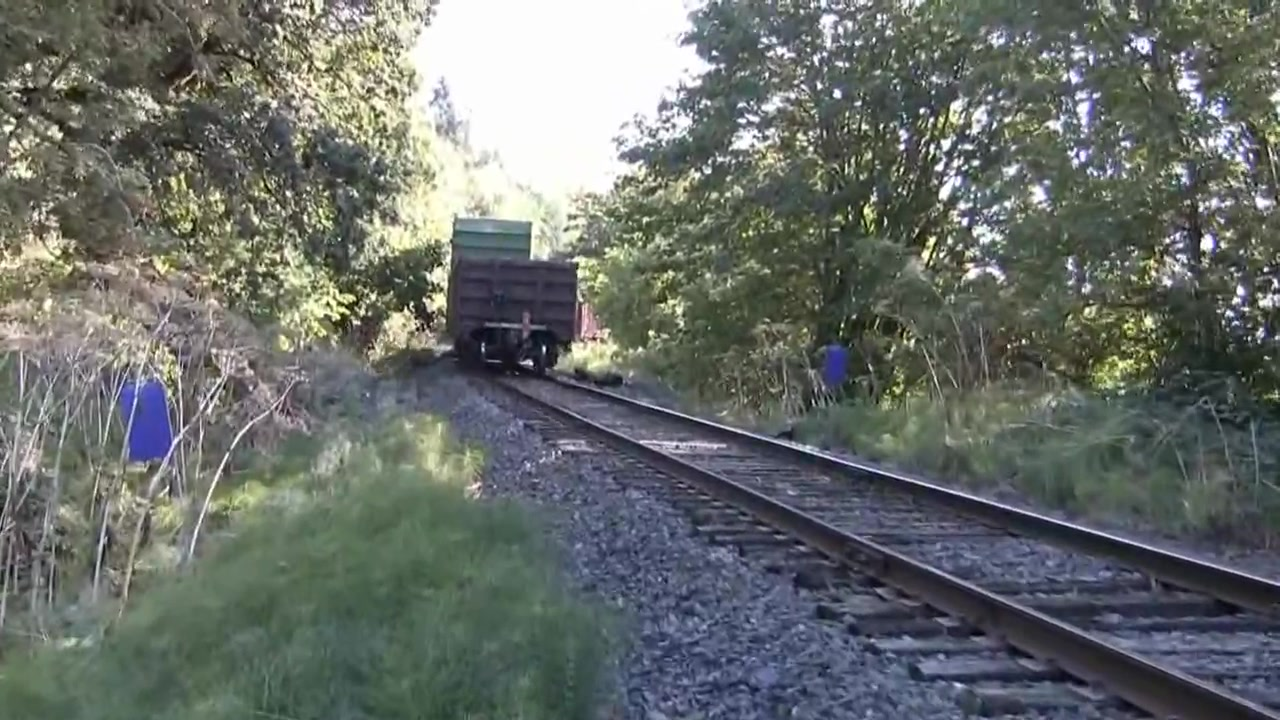train: (447, 215, 585, 370)
